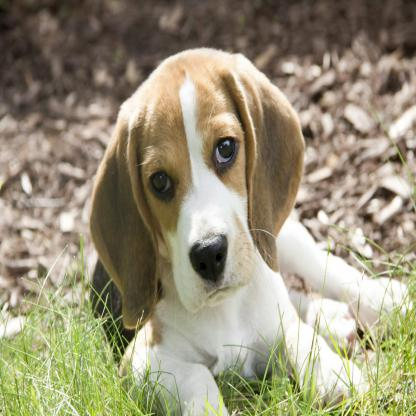Bigl: (86, 43, 412, 416)
